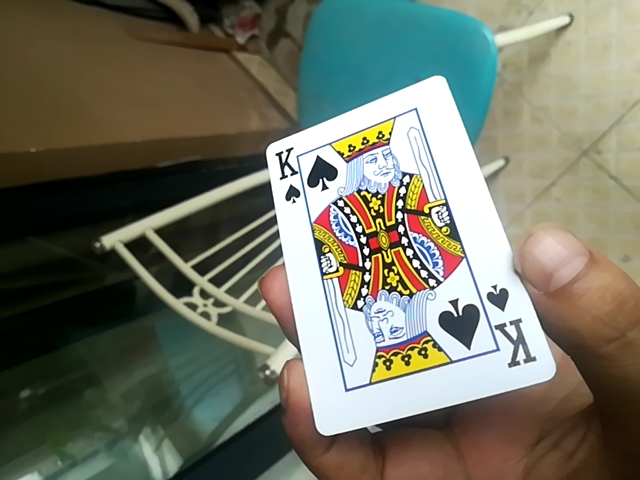ht k: (263, 78, 539, 448)
